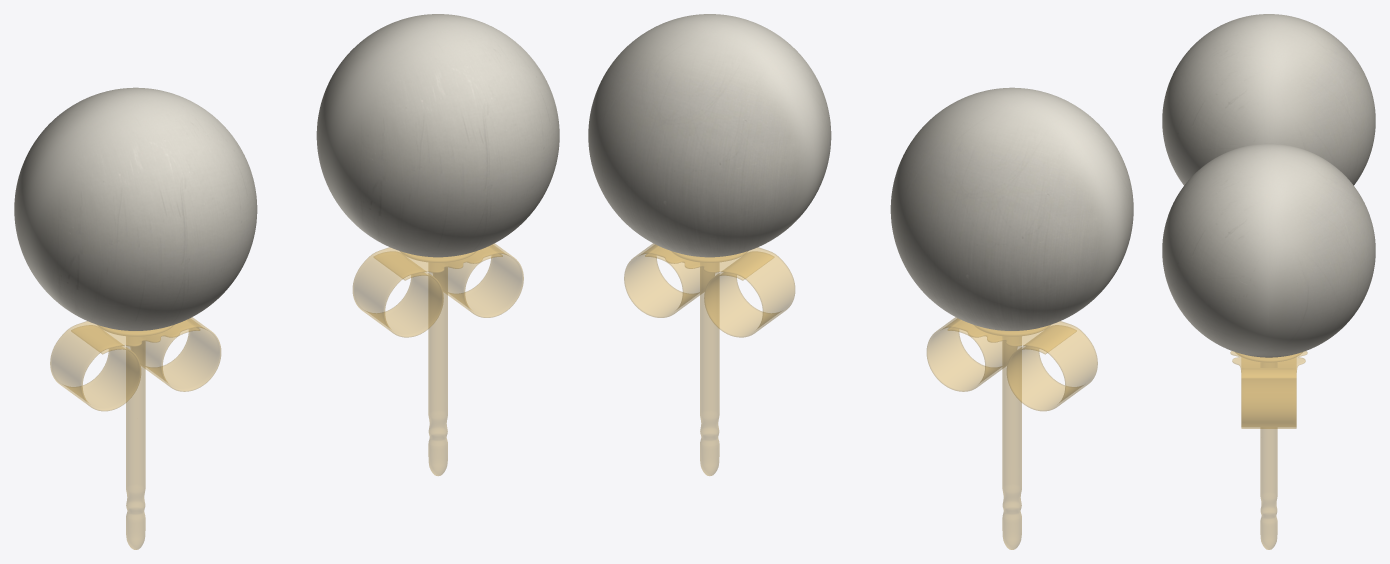
Rendered from earring.glb.
3 renders of one model, left to right at view 1: azimuth 30°, elevation 25°; view 2: azimuth 150°, elevation 25°; view 3: azimuth 270°, elevation 25°, orthographic. The views are drawn at different scales.
Visible parts, largest first — view 1: balls, brass; view 2: balls, brass; view 3: balls, brass.
Part boxes in pixels (x1=…): balls: x1=14, y1=14, x2=559, y2=330; brass: x1=50, y1=243, x2=523, y2=549; balls: x1=588, y1=14, x2=1133, y2=330; brass: x1=624, y1=243, x2=1097, y2=549; balls: x1=1162, y1=14, x2=1375, y2=357; brass: x1=1230, y1=351, x2=1307, y2=549.
Bounding box in the file's own units: 0.508 × 0.4262 × 0.2085.
Materials: 2 (1 with a texture image).
